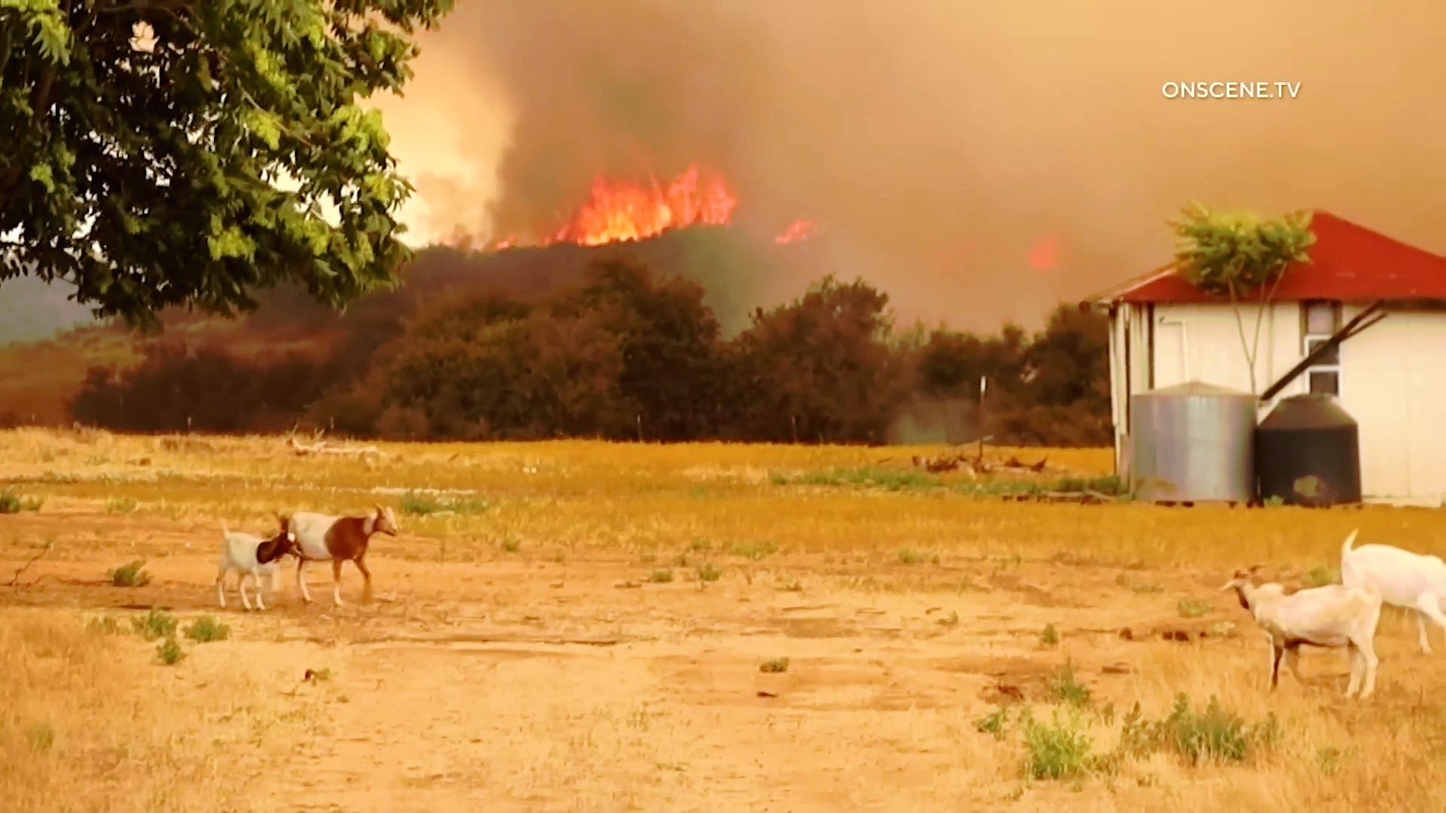fire: (453, 136, 808, 262)
